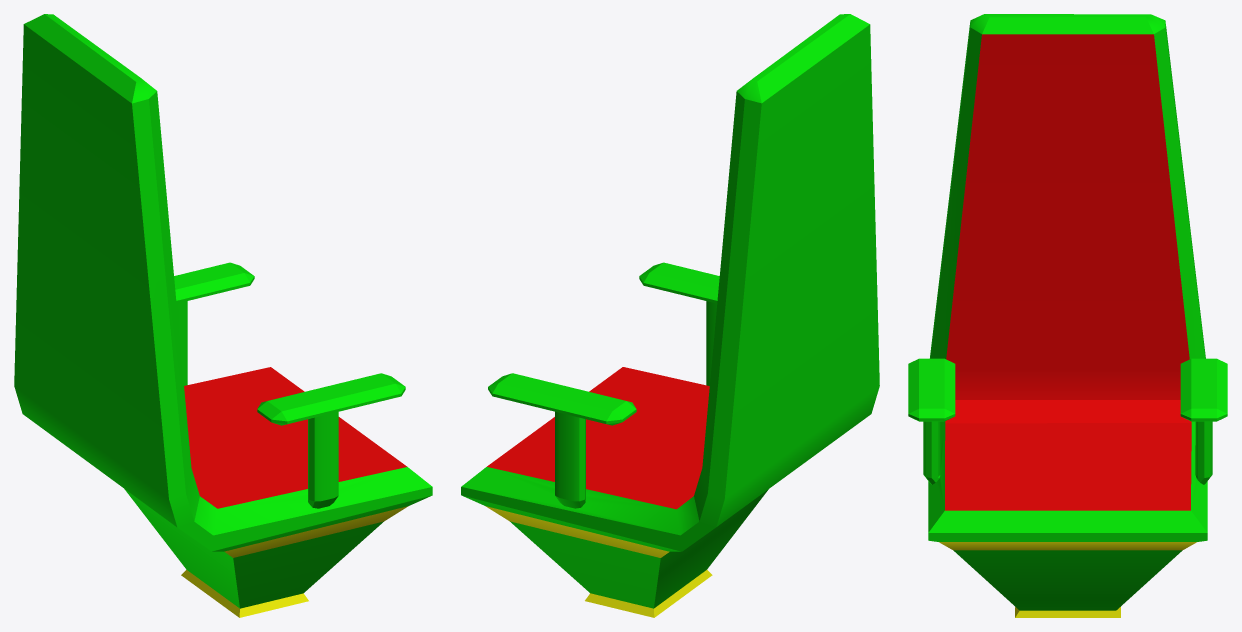
Rendered from ChairWithHandles.fbx.
3 views of the same model, side by side, from view 1: azimuth 30°, elevation 25°; view 2: azimuth 150°, elevation 25°; view 3: azimuth 270°, elevation 25° (orthographic). The views are drawn at different scales.
Parts seen in each view (by area): view 1: pCube16; view 2: pCube16; view 3: pCube16.
Part boxes in pixels (left/top/right/bottom): pCube16: left=14, top=14, right=432, bottom=617; pCube16: left=461, top=14, right=879, bottom=617; pCube16: left=908, top=14, right=1227, bottom=617.
Size of the model in its own units: 2.07 by 4.11 by 2.28.
